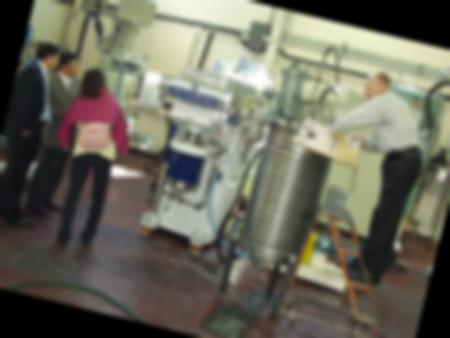Escaleras: (282, 201, 402, 338)
